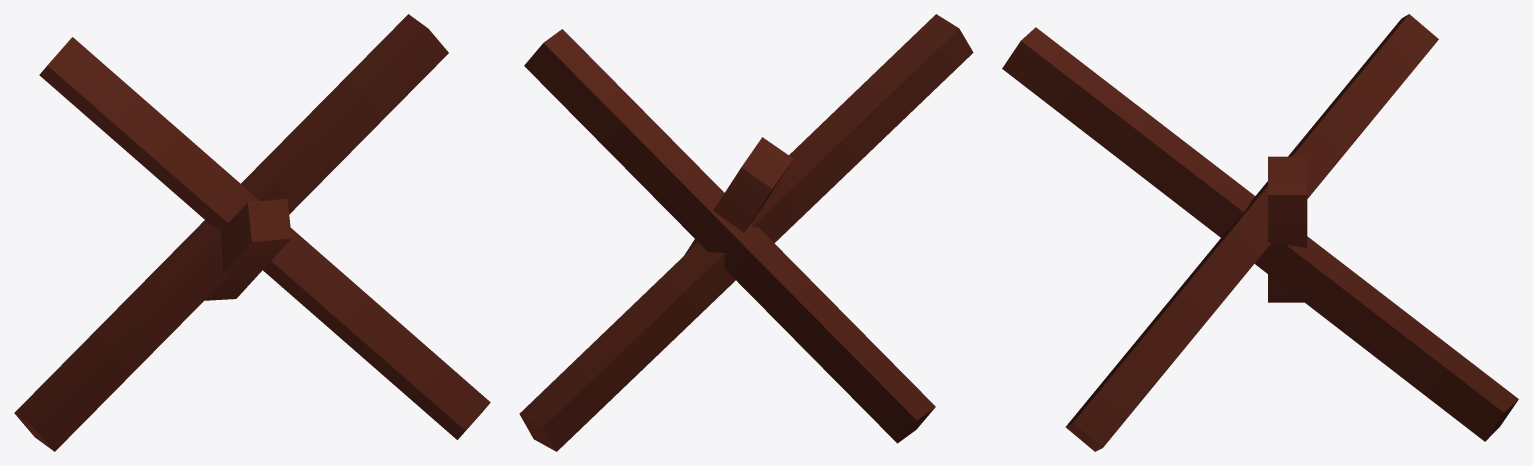
The model's file is XBarrier.fbx.
3 renders of one model, left to right at view 1: azimuth 30°, elevation 25°; view 2: azimuth 150°, elevation 25°; view 3: azimuth 270°, elevation 25°, orthographic. The views are drawn at different scales.
Visible parts, largest first — view 1: XBarrier; view 2: XBarrier; view 3: XBarrier.
Part boxes in pixels (x1,y1,x2,y2): XBarrier: (14,14,490,451); XBarrier: (519,14,973,451); XBarrier: (1002,14,1518,451).
Size of the model in its own units: 1161 by 909 by 1285.
